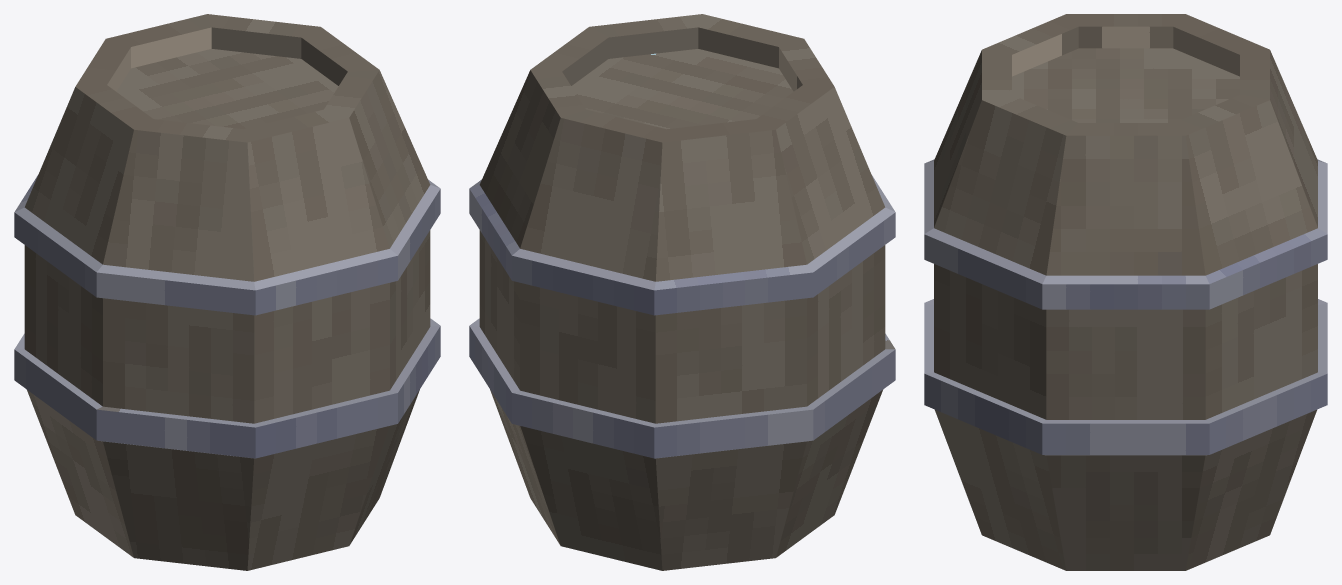
Rendered from barrel.fbx.
3 views of the same model, side by side, from view 1: azimuth 30°, elevation 25°; view 2: azimuth 150°, elevation 25°; view 3: azimuth 270°, elevation 25° (orthographic).
Visible parts, largest first — view 1: cylinder; view 2: cylinder; view 3: cylinder.
Part boxes in pixels (<box>): cylinder: <box>14,14,440,570</box>; cylinder: <box>469,14,895,570</box>; cylinder: <box>924,14,1327,570</box>.
Size of the model in its own units: 105 by 125 by 105.
Materials: 1 (1 with a texture image).
